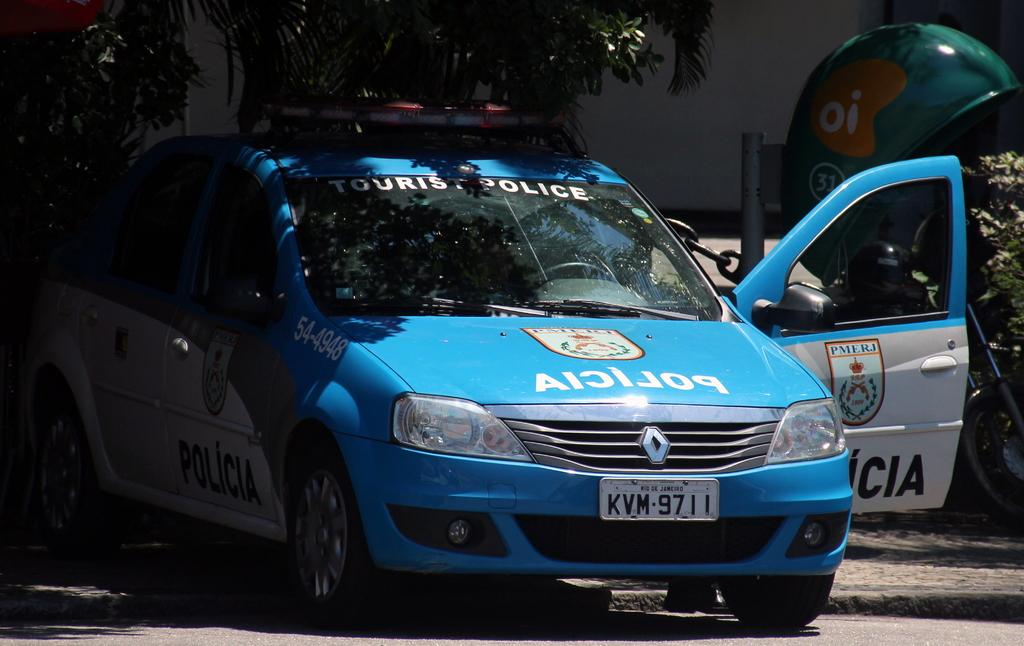helmet: (850, 241, 903, 294)
